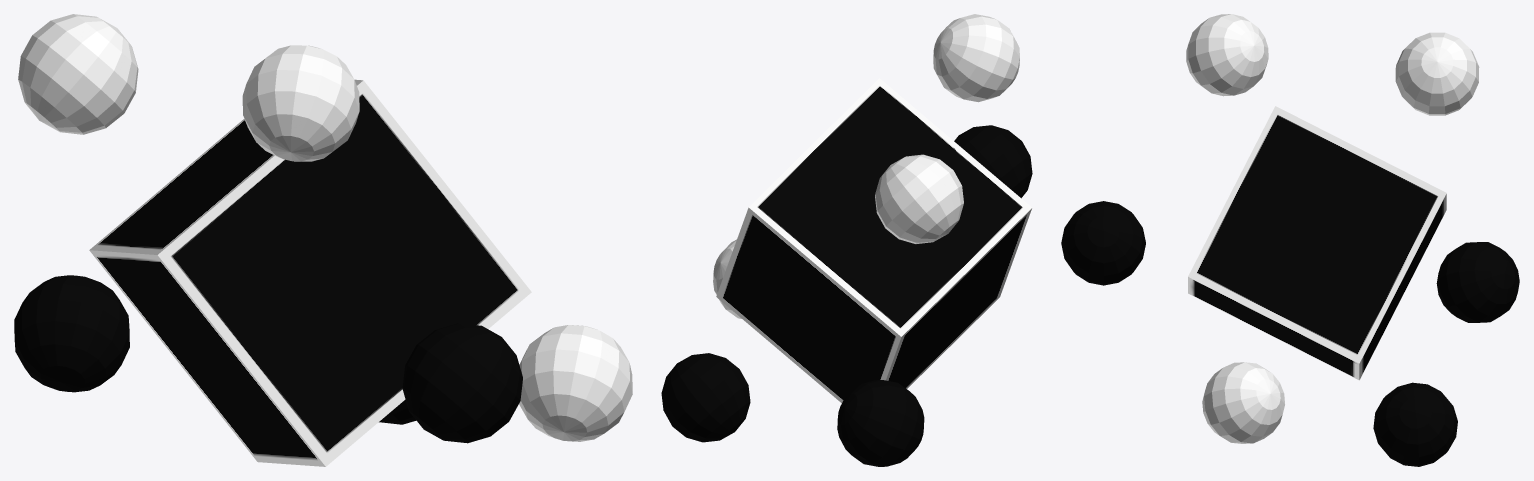
Rendered from Enemy.gltf.
The picture shows the model from 3 angles, left to right: view 1: azimuth 30°, elevation 25°; view 2: azimuth 150°, elevation 25°; view 3: azimuth 270°, elevation 25°; orthographic projection. The views are drawn at different scales.
Visible parts, largest first — view 1: Cube, White2_1, BLack2_1, White1_1, Black1, White1_2; view 2: Cube, White2_1, Black2, Black1, White1_1, BLack2_1, White1_2; view 3: Cube, White2_1, BLack2_1, Black2, White1_2, White1_1, Black1.
Part boxes in pixels (<box>): Cube: <box>89,79,531,466</box>; White2_1: <box>18,14,138,134</box>; BLack2_1: <box>402,323,522,443</box>; White1_1: <box>242,45,359,161</box>; Black1: <box>14,275,129,392</box>; White1_2: <box>519,325,632,441</box>; Cube: <box>716,78,1031,403</box>; White2_1: <box>875,154,963,243</box>; Black2: <box>661,353,750,442</box>; Black1: <box>837,380,924,466</box>; White1_1: <box>933,14,1019,102</box>; BLack2_1: <box>954,125,1032,198</box>; White1_2: <box>713,239,741,318</box>; Cube: <box>1188,106,1446,380</box>; White2_1: <box>1395,32,1479,115</box>; BLack2_1: <box>1061,201,1145,285</box>; Black2: <box>1373,382,1457,466</box>; White1_2: <box>1202,362,1284,443</box>; White1_1: <box>1186,14,1268,96</box>; Black1: <box>1436,242,1519,322</box>.
Size of the model in its own units: 1.54 by 1.67 by 1.9.
1 material, 1 textured.
